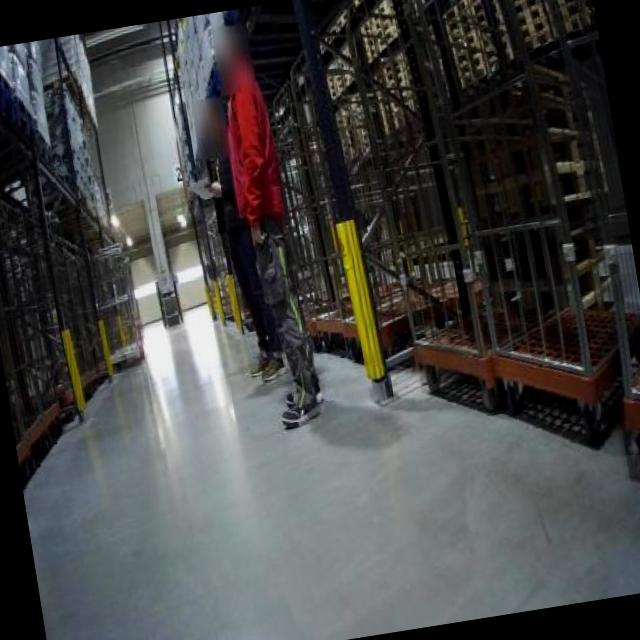pallet: (501, 0, 557, 55)
